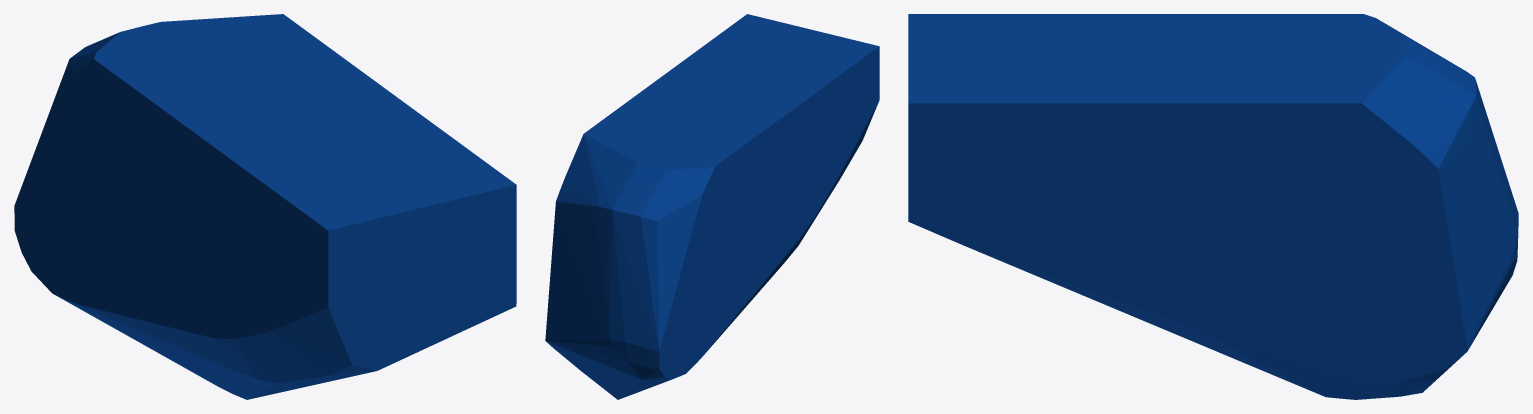
The picture shows the model from 3 angles, left to right: view 1: azimuth 30°, elevation 25°; view 2: azimuth 150°, elevation 25°; view 3: azimuth 270°, elevation 25°; orthographic projection. The views are drawn at different scales.
Bounding box in the file's own units: 0.00803 × 0.0139 × 0.0232.
